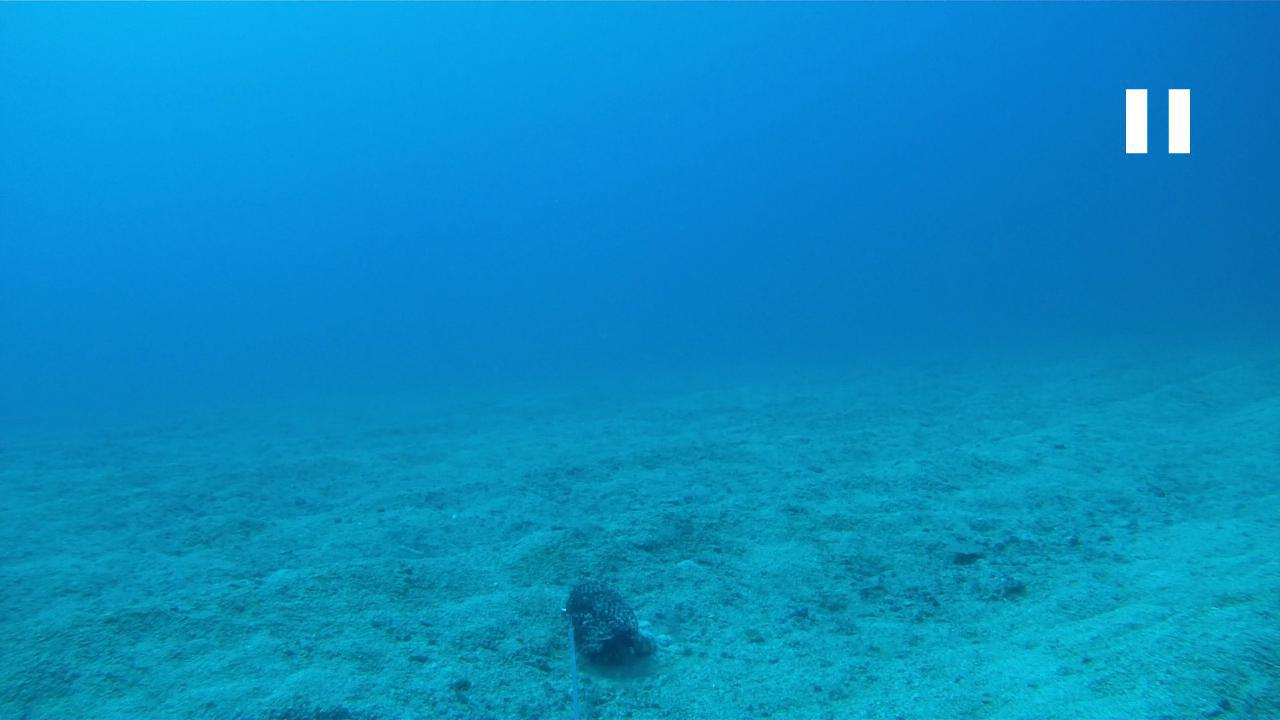bothus: (940, 538, 989, 558)
